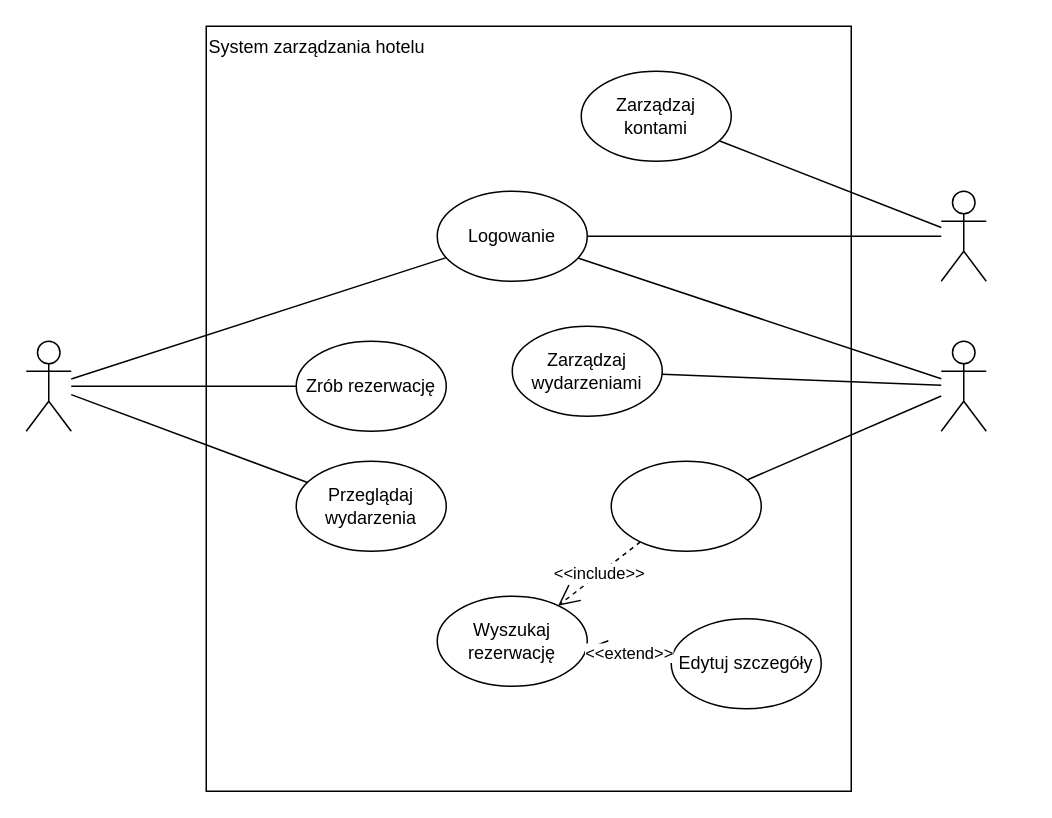
Image size: 1052x818. Some labels were removed from this diagram. The shapes that lost their labels are listed below. From the top down, each one's centre as x and y in pixels, then its label:
At (x=963, y=235): "Administrator".
At (x=48, y=385): "Klient".
At (x=963, y=385): "Personel hotelu".
At (x=685, y=505): "Zarządzaj rezerwacjami".
